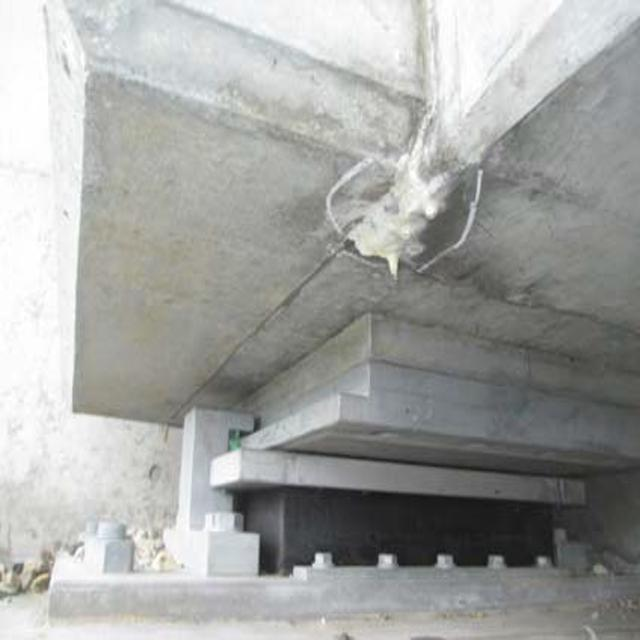freelime: (337, 156, 469, 271)
